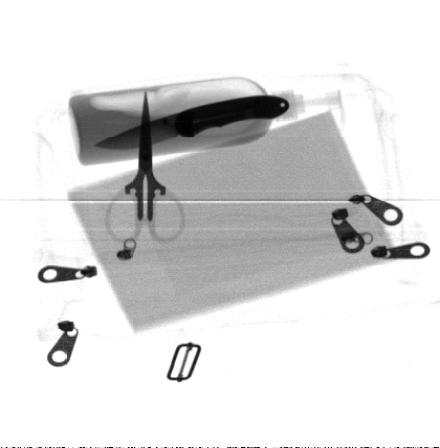Knife: (91, 94, 292, 150)
Scissors: (104, 89, 186, 244)
